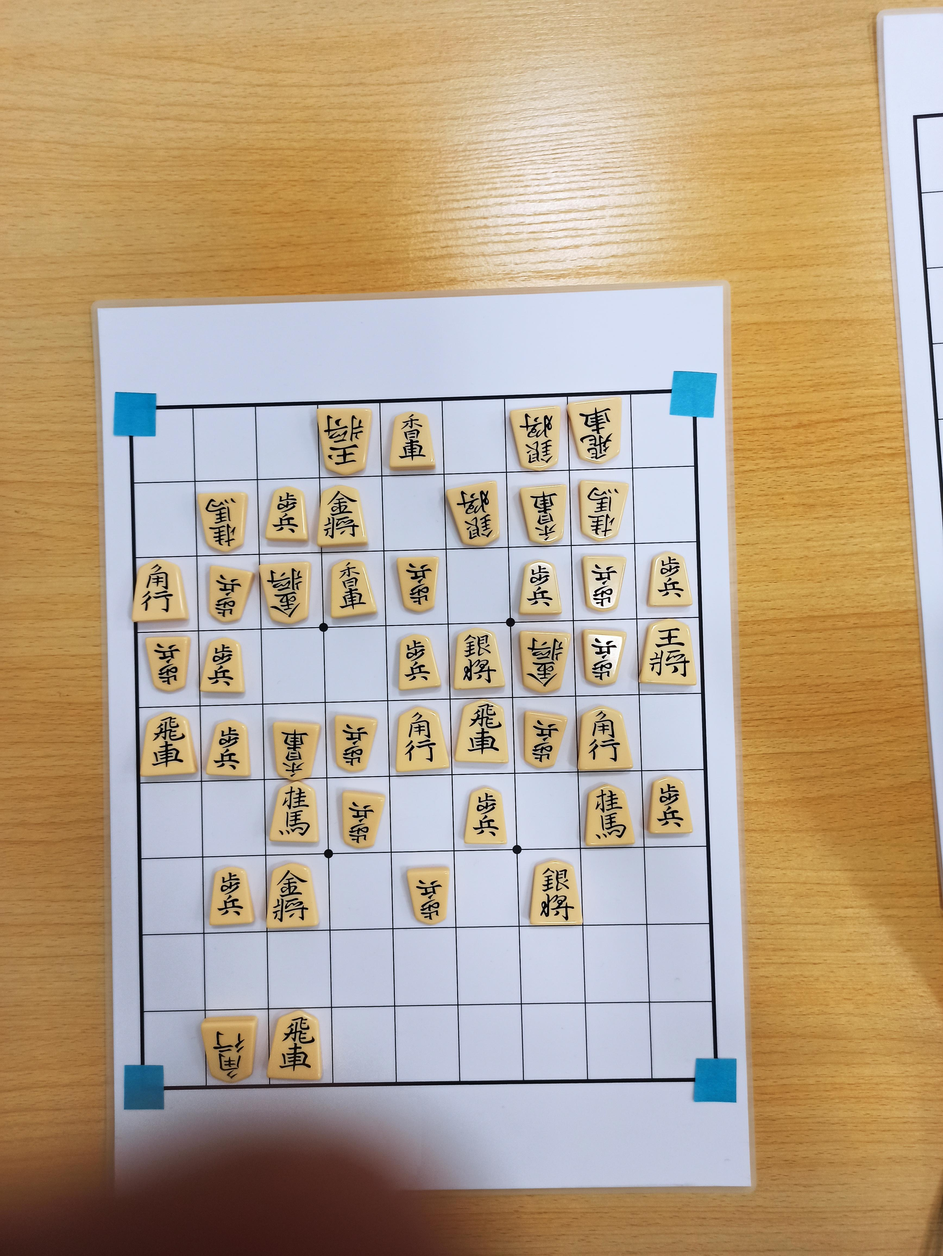board: (130, 392, 717, 1089)
